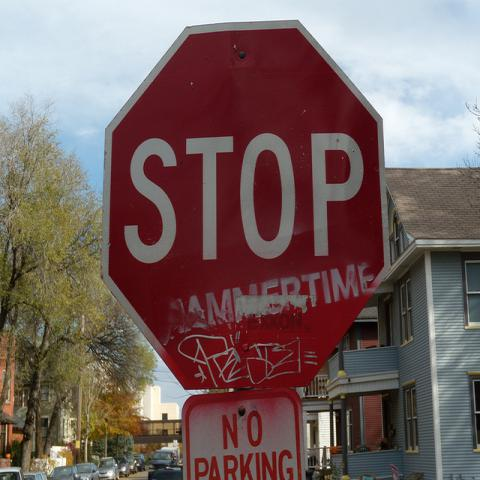car: (148, 450, 178, 470), (97, 457, 120, 479), (75, 461, 102, 479), (47, 465, 81, 479), (114, 455, 130, 478), (0, 468, 26, 479)
